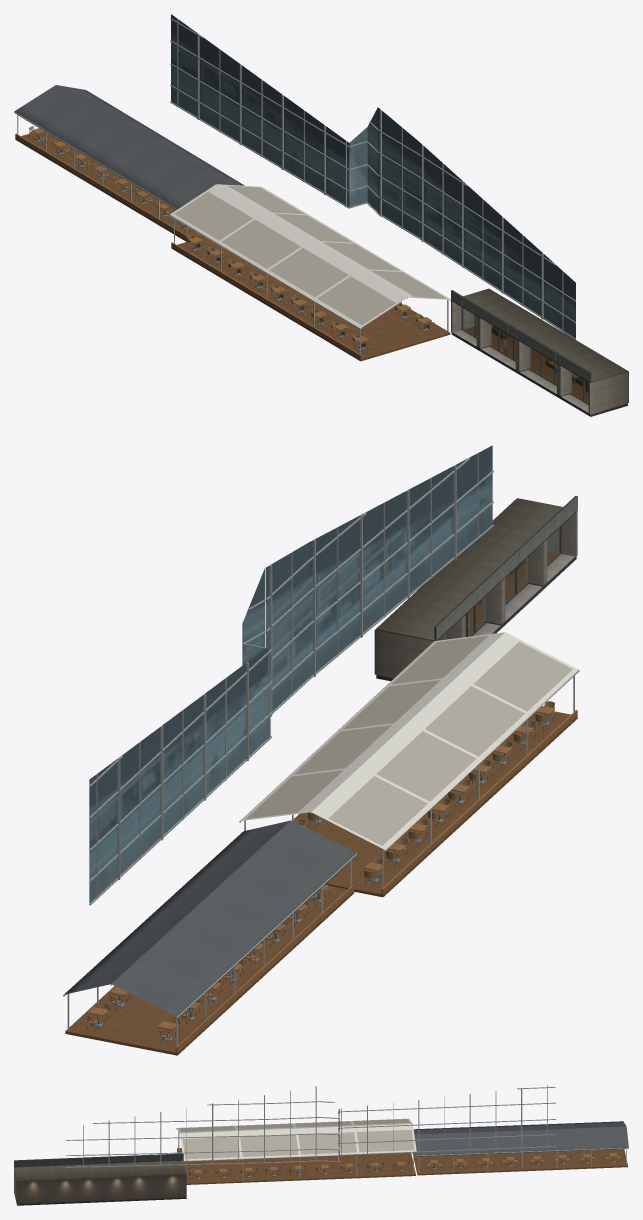
3 renders of one model, top to bottom at view 1: azimuth 30°, elevation 25°; view 2: azimuth 150°, elevation 25°; view 3: azimuth 270°, elevation 25°, orthographic. The views are drawn at different scales.
Visible parts, largest first — view 1: One Fullerton laminated glazing, Roof infill, Charcoal, Recessed shop cladding, Deck, Anodised glazing bars, Pale roof trim, Teak, Courtyard entrance glass, Interior timber joinery, Metal, Cane (+3 smaller); view 2: One Fullerton laminated glazing, Charcoal, Roof infill, Recessed shop cladding, Deck, Anodised glazing bars, Pale roof trim, Teak, Metal, Canopy frame, Cane, Courtyard entrance glass (+2 smaller); view 3: Deck, Charcoal, Roof infill, Anodised glazing bars, Recessed shop cladding, Wall washed plaster, Pale roof trim, Teak, Metal, Canopy frame, Cane, Dining tables.
Boxes of the visible parts, x1,y1,x2,y2 form: One Fullerton laminated glazing: (171,14,575,338); Roof infill: (174,185,447,324); Charcoal: (14,85,244,210); Recessed shop cladding: (451,288,627,416); Deck: (15,132,450,361); Anodised glazing bars: (170,18,575,339); Pale roof trim: (169,184,450,328); Teak: (15,126,434,359); Courtyard entrance glass: (463,308,587,402); Interior timber joinery: (464,325,627,411); Metal: (29,128,434,352); Cane: (187,235,434,347); One Fullerton laminated glazing: (89,445,492,903); Charcoal: (63,820,356,1018); Roof infill: (246,635,572,845); Recessed shop cladding: (376,496,577,681); Deck: (65,711,577,1055); Anodised glazing bars: (89,453,493,905); Pale roof trim: (239,632,579,851); Teak: (87,701,577,1052); Metal: (86,712,554,1044); Canopy frame: (63,676,574,1046); Cane: (295,701,554,878); Courtyard entrance glass: (439,528,559,639); Deck: (177,1149,627,1184); Charcoal: (413,1121,628,1156); Roof infill: (178,1119,414,1159); Anodised glazing bars: (66,1085,555,1167); Recessed shop cladding: (14,1153,186,1205); Wall washed plaster: (17,1174,186,1204); Pale roof trim: (176,1118,416,1161); Teak: (177,1148,621,1175); Metal: (189,1155,621,1179); Canopy frame: (178,1132,628,1180); Cane: (189,1162,409,1175); Dining tables: (194,1161,404,1173).
Bounding box in the file's own units: 15.68 × 12.06 × 62.42.
17 materials, 9 textured.
